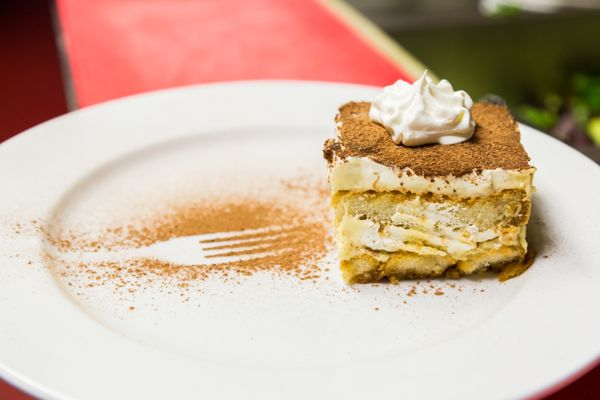sushi: (323, 71, 538, 284)
